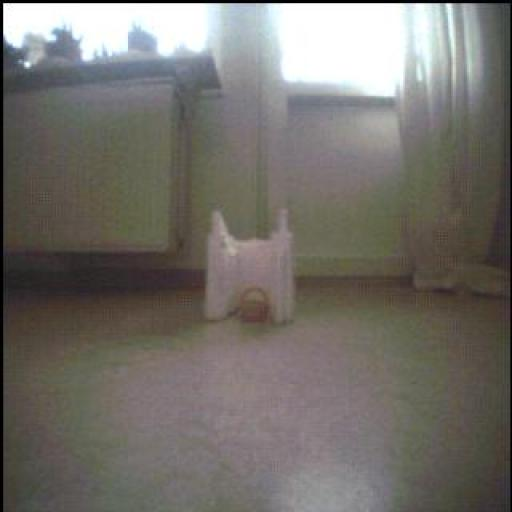Basket: (240, 288, 272, 325)
